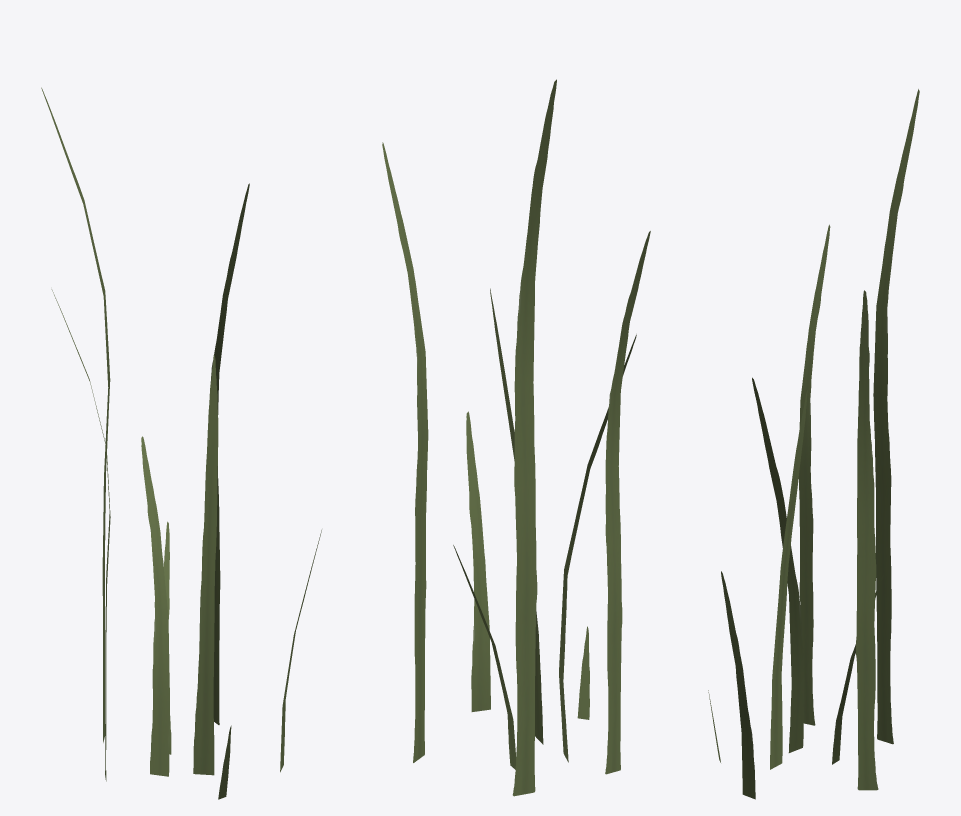
File: SM_Grass_00.fbx
The picture shows the model from 3 angles, left to right: view 1: azimuth 30°, elevation 25°; view 2: azimuth 150°, elevation 25°; view 3: azimuth 270°, elevation 25°; orthographic projection. The views are drawn at different scales.
Visible parts, largest first — view 1: pCube4800; view 2: pCube4800; view 3: pCube4800.
Boxes of the visible parts, x1,y1,x2,y2 form: pCube4800: (41,87,321,799); pCube4800: (382,79,650,796); pCube4800: (708,89,919,799).
Bounding box in the file's own units: 20.08 × 55.47 × 17.78.
1 material, 1 textured.
